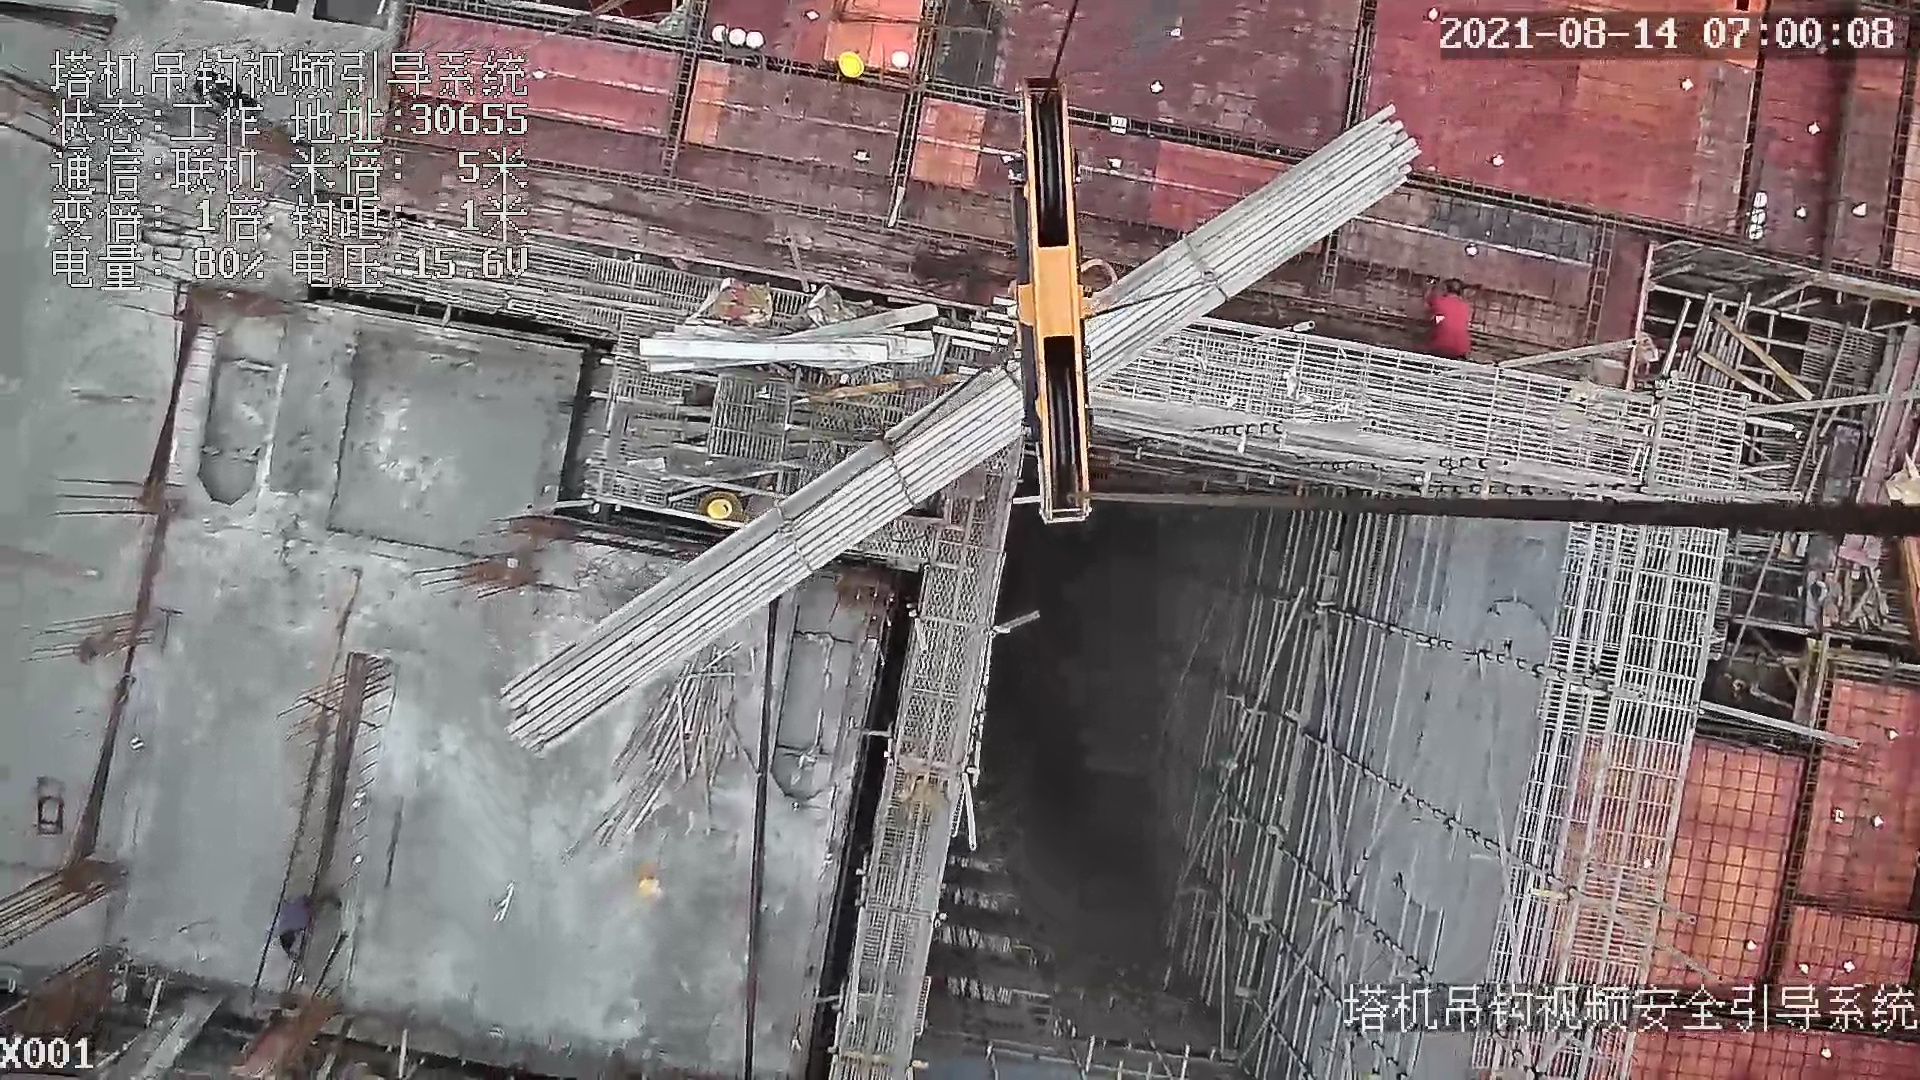helmet: (838, 51, 864, 78), (706, 499, 732, 519)
hook: (992, 68, 1120, 528)
person: (1422, 278, 1473, 360), (277, 891, 342, 949)
rebar: (496, 103, 1420, 757)
